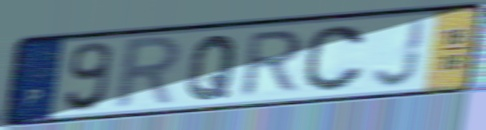9: (64, 40, 116, 114)
C: (300, 23, 368, 94)
J: (370, 15, 430, 90)
Q: (184, 32, 241, 103)
R: (110, 32, 185, 113), (236, 26, 308, 100)
